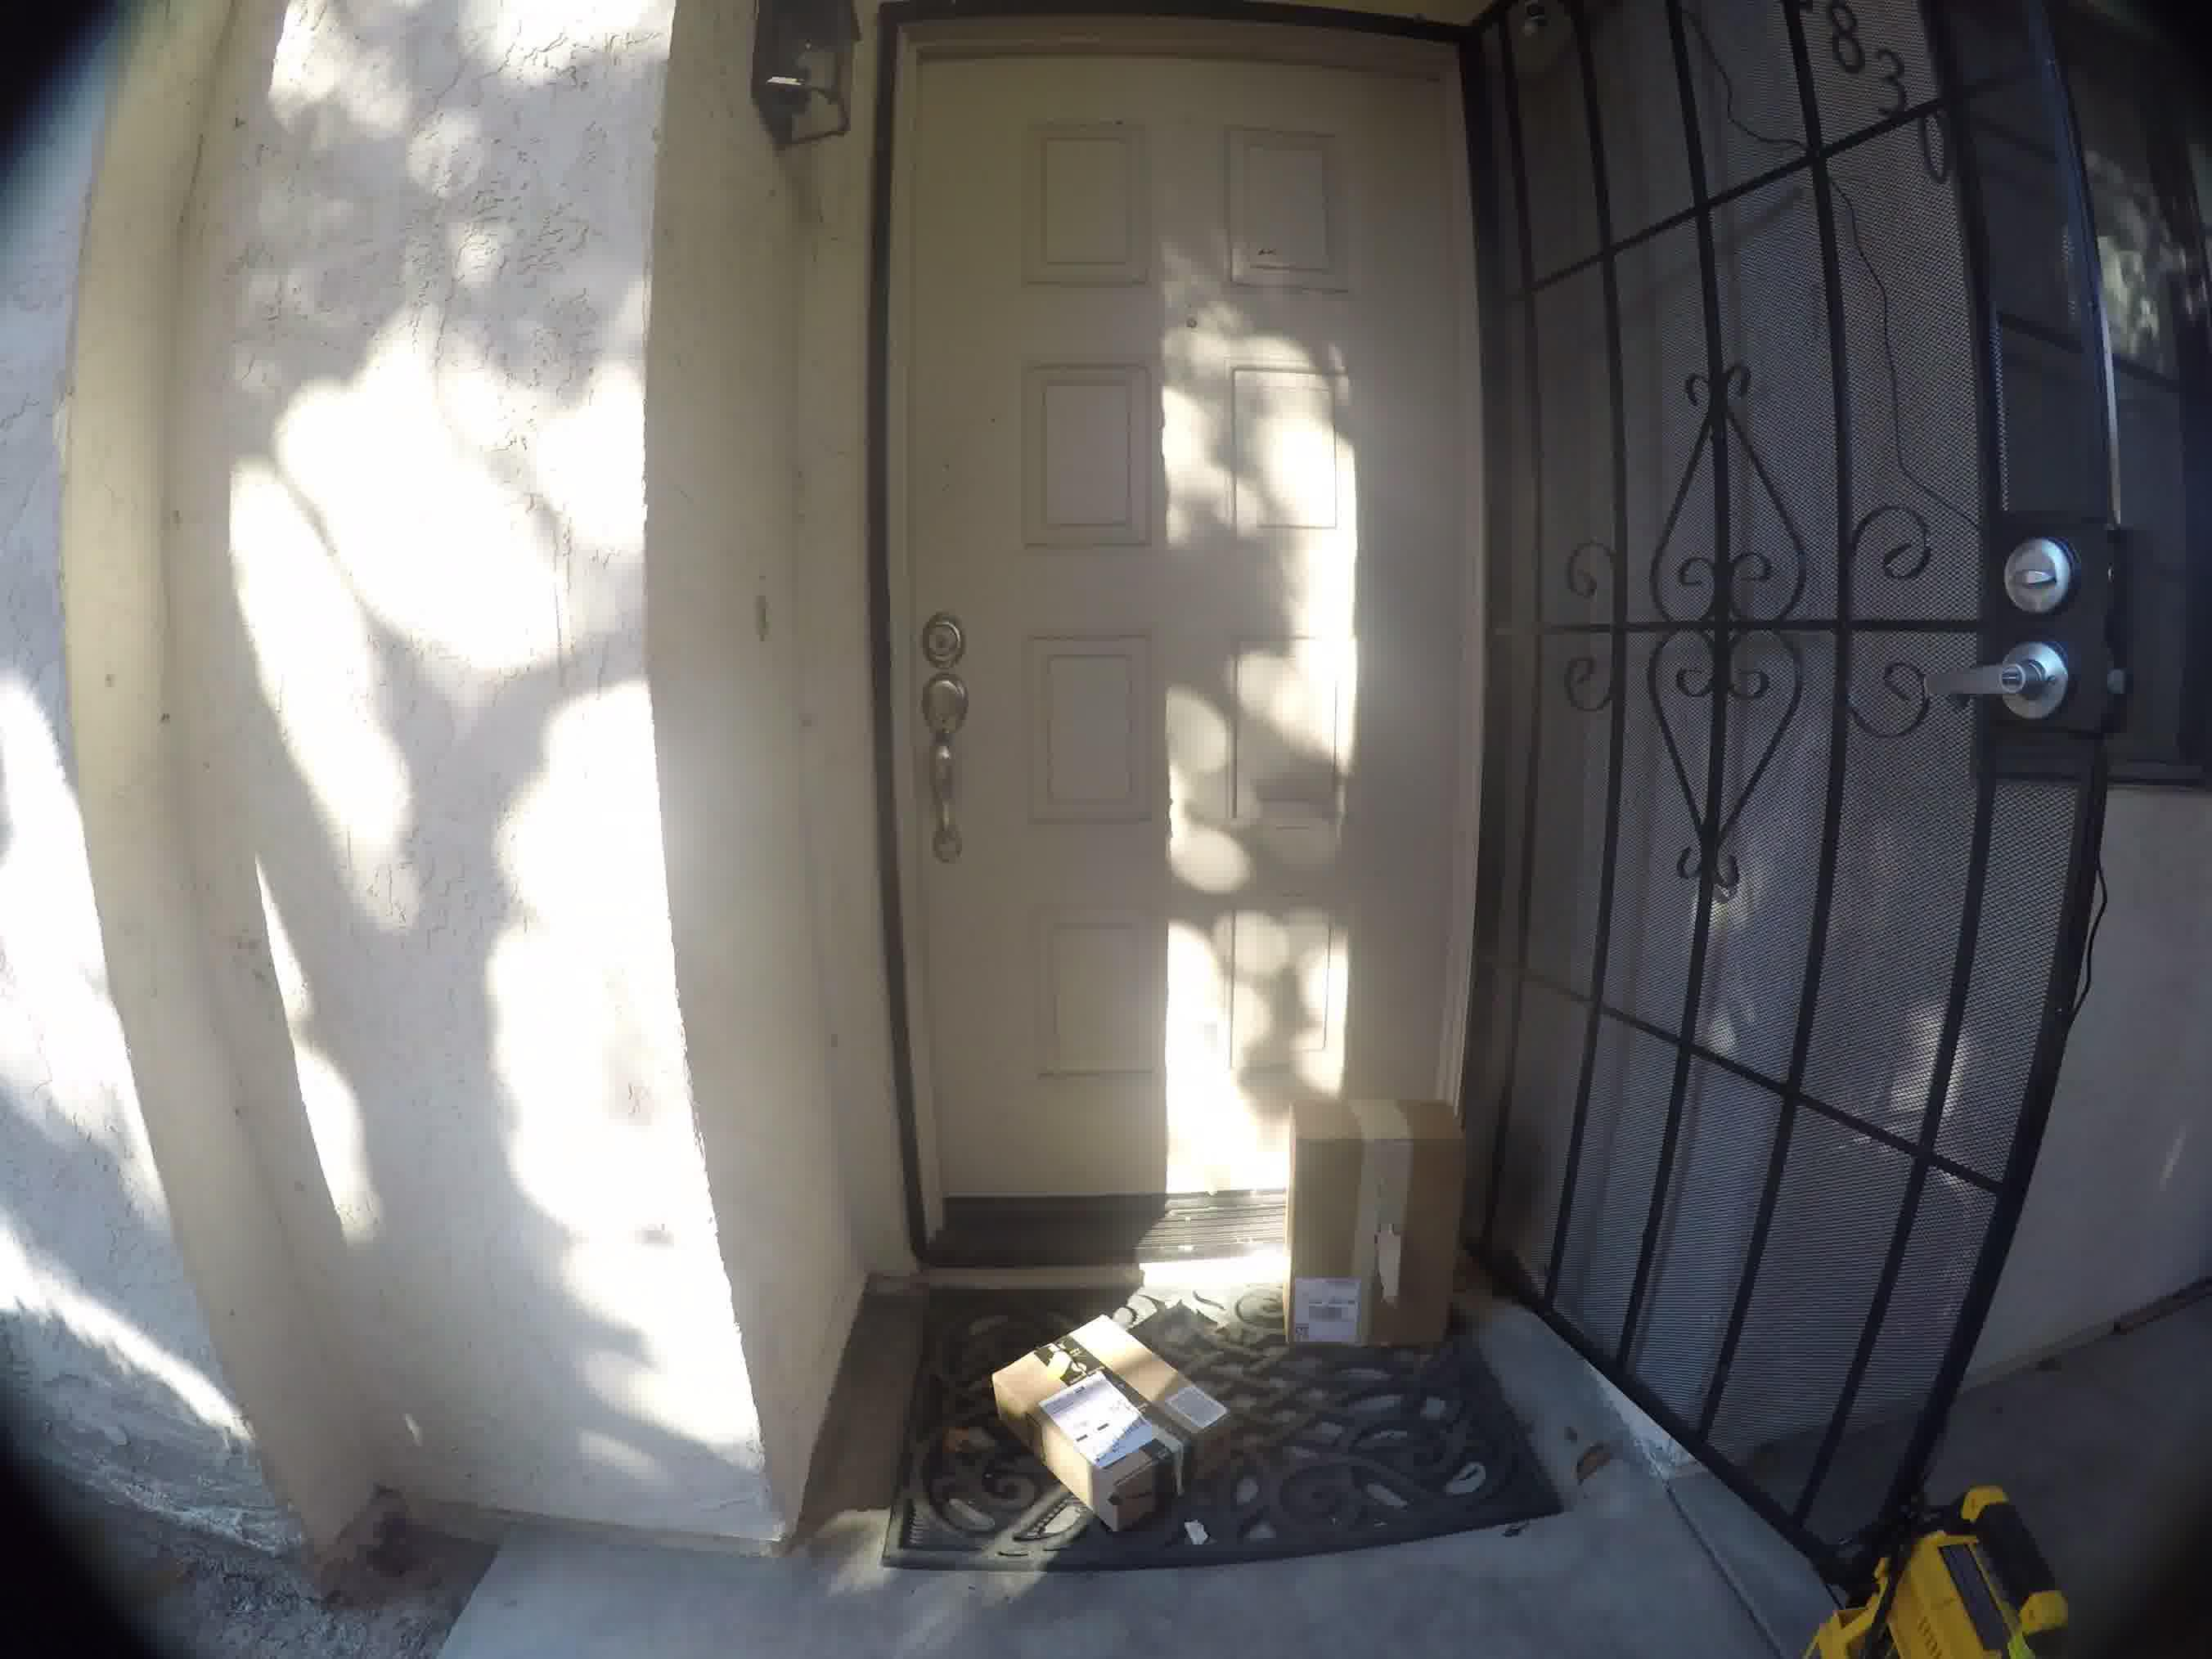box: (944, 1310, 1230, 1520), (1275, 1087, 1472, 1373)
